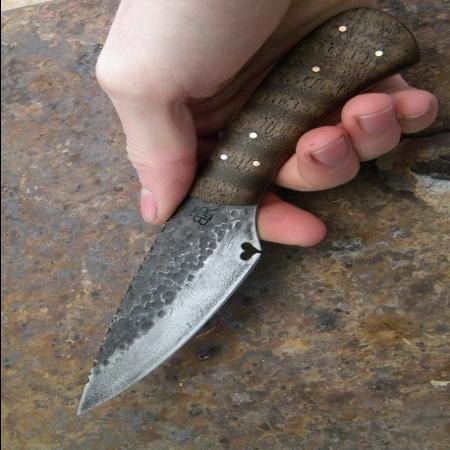long weapon: (67, 82, 437, 428)
